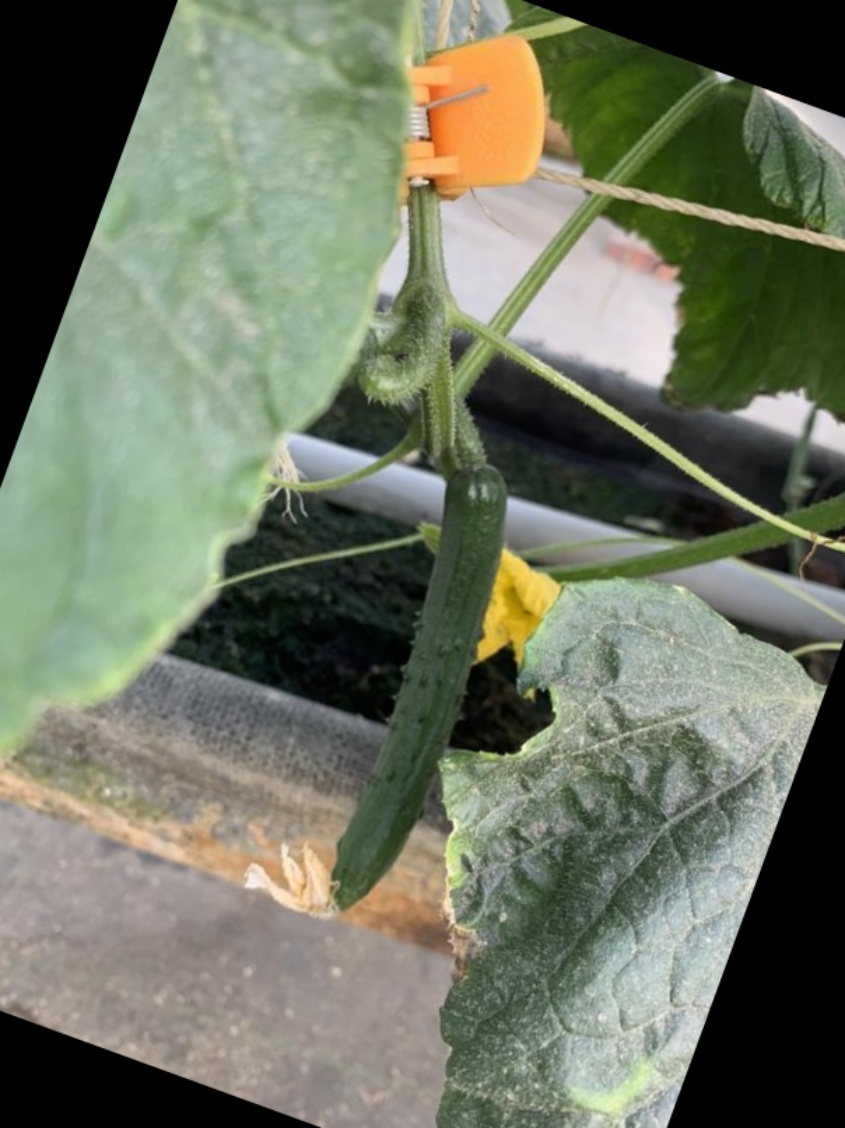mature: (296, 458, 519, 938)
